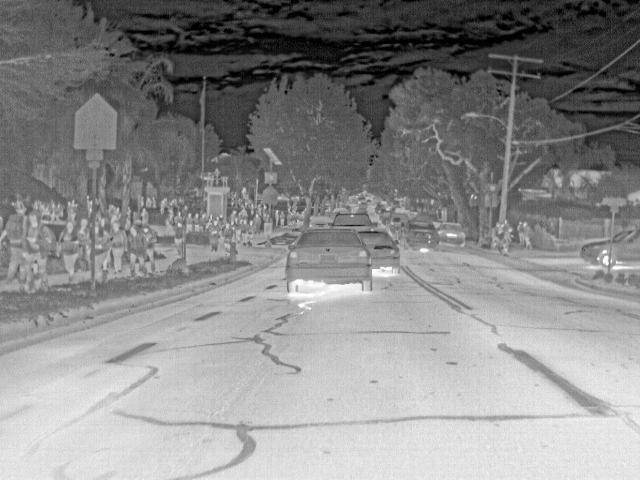car: (286, 228, 373, 292), (579, 228, 640, 268), (358, 230, 399, 274), (399, 219, 441, 253), (330, 212, 374, 230), (438, 222, 466, 248), (308, 210, 337, 229), (388, 212, 408, 232), (380, 209, 392, 224)
person: (5, 200, 30, 287), (30, 213, 48, 290), (91, 220, 108, 286), (60, 220, 77, 282), (109, 221, 127, 275), (126, 225, 144, 277), (142, 223, 159, 272), (79, 215, 92, 272), (221, 222, 235, 256), (174, 221, 186, 259), (489, 220, 502, 252), (211, 219, 222, 253), (502, 224, 515, 251), (245, 218, 256, 246), (235, 218, 246, 244), (164, 214, 175, 238), (524, 220, 533, 248), (192, 211, 202, 233), (252, 211, 262, 233), (158, 195, 168, 216), (518, 219, 525, 245), (186, 212, 194, 233), (227, 208, 238, 222), (141, 206, 149, 224), (275, 207, 281, 229), (279, 210, 286, 228)
